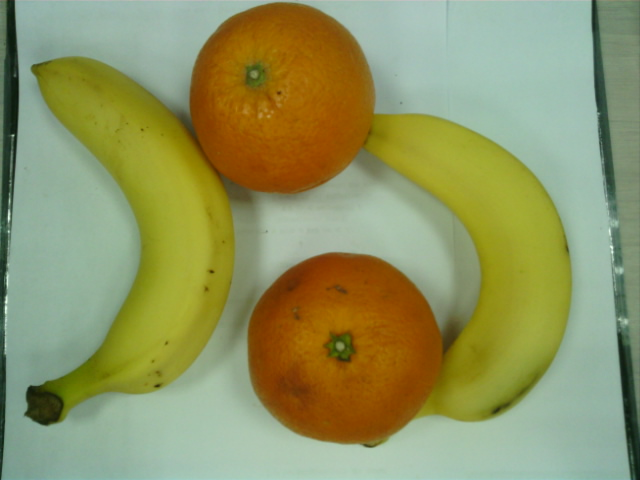normal_banana: (26, 56, 236, 421), (365, 115, 572, 421)
normal_orange: (250, 252, 443, 444), (191, 3, 376, 195)
